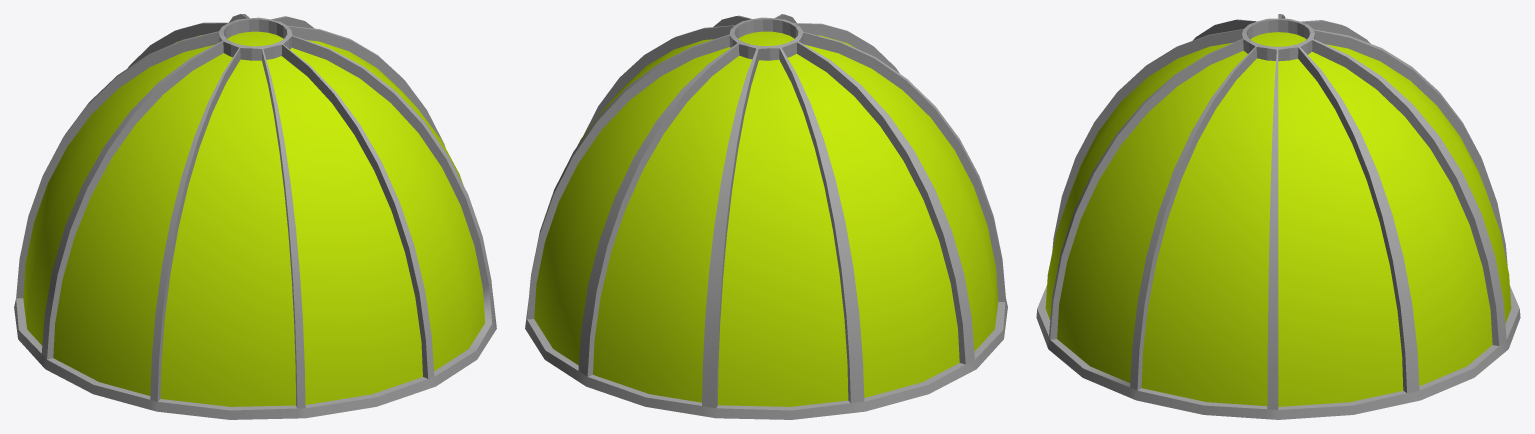
File: dome (3) (1).fbx
3 renders of one model, left to right at view 1: azimuth 30°, elevation 25°; view 2: azimuth 150°, elevation 25°; view 3: azimuth 270°, elevation 25°, orthographic.
Parts seen in each view (by area): view 1: pSphere1; view 2: pSphere1; view 3: pSphere1.
Boxes of the visible parts, x1=… form: pSphere1: x1=14, y1=14, x2=496, y2=419; pSphere1: x1=525, y1=14, x2=1007, y2=419; pSphere1: x1=1036, y1=14, x2=1520, y2=419.
Bounding box in the file's own units: 4146 × 2687 × 4146.
